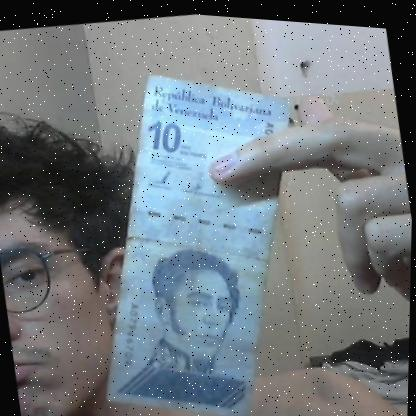ten-front-vef: (55, 44, 339, 416)
